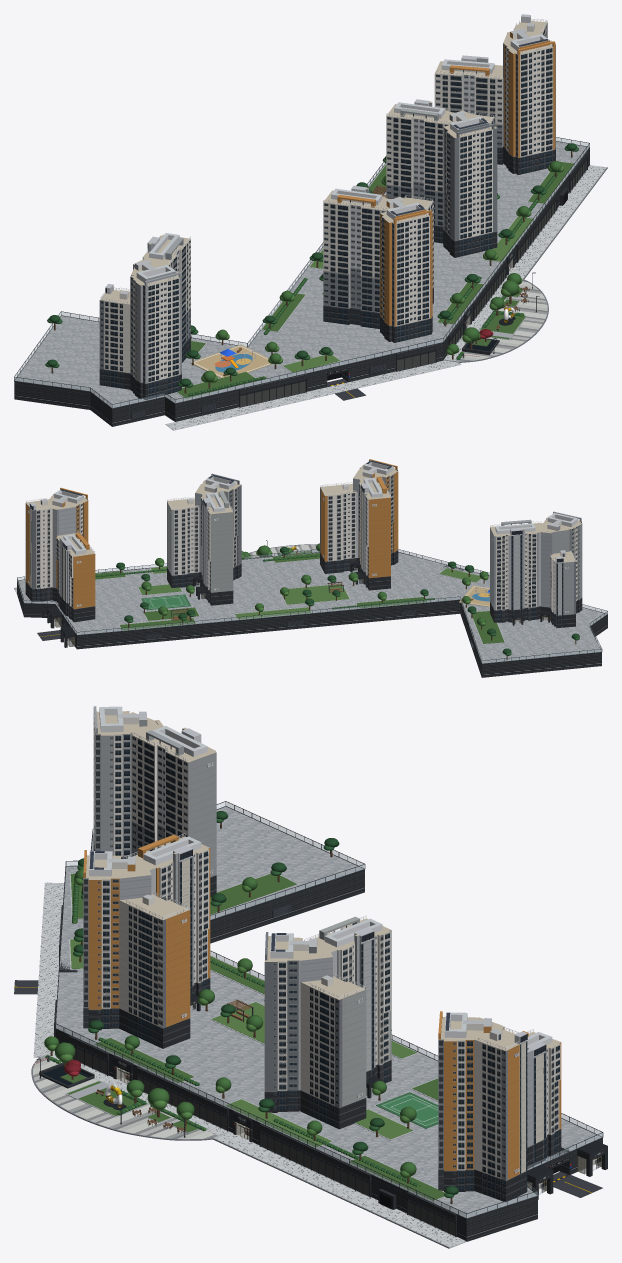
File: Community_south.glb
3 views of the same model, one above another, from view 1: azimuth 30°, elevation 25°; view 2: azimuth 150°, elevation 25°; view 3: azimuth 270°, elevation 25° (orthographic). The views are drawn at different scales.
Parts seen in each view (by area): view 1: KumhoParkHills_Unified_Community_With_FrontPark, Rooftop_Park_Landscaping, WingA_NW_21F.001, WingC_South_21F.001, WingC_South_21F.002, WingC_South_21F, WingC_South_20F, WingA_NW_21F, Community_Front_Curved_Park, WingA_NW_15F, WingB_NW_15F_118sqm, WingA_NE_20F; view 2: KumhoParkHills_Unified_Community_With_FrontPark, Rooftop_Park_Landscaping, WingA_NE_20F, WingA_NW_21F, WingA_NW_21F.001, WingB_NE_18F_164sqm, WingA_NW_15F, WingB_NE_18F_151sqm, WingB_NE_21F, WingB_NW_15F_118sqm, KumhoParkHills_102_UpperOnly, WingC_South_21F.001 (+7 smaller); view 3: KumhoParkHills_Unified_Community_With_FrontPark, Rooftop_Park_Landscaping, WingB_NE_18F_164sqm, WingA_NE_20F, WingB_NE_18F_151sqm, WingB_NE_21F, Community_Front_Curved_Park, WingC_South_21F, WingA_NW_21F, WingC_South_21F.001, WingC_South_21F.002, WingA_NW_21F.001 (+4 smaller).
Part boxes in pixels (bbox=[...]): KumhoParkHills_Unified_Community_With_FrontPark: bbox=[14, 137, 607, 430]; Rooftop_Park_Landscaping: bbox=[45, 143, 578, 399]; WingA_NW_21F.001: bbox=[323, 185, 392, 328]; WingC_South_21F.001: bbox=[443, 111, 497, 257]; WingC_South_21F.002: bbox=[380, 197, 432, 342]; WingC_South_21F: bbox=[504, 28, 555, 174]; WingC_South_20F: bbox=[130, 260, 181, 399]; WingA_NW_21F: bbox=[386, 99, 454, 243]; Community_Front_Curved_Park: bbox=[443, 272, 548, 362]; WingA_NW_15F: bbox=[434, 55, 503, 164]; WingB_NW_15F_118sqm: bbox=[99, 284, 130, 389]; WingA_NE_20F: bbox=[142, 233, 190, 362]; KumhoParkHills_Unified_Community_With_FrontPark: bbox=[14, 549, 607, 677]; Rooftop_Park_Landscaping: bbox=[95, 543, 579, 659]; WingA_NE_20F: bbox=[490, 519, 544, 625]; WingA_NW_21F: bbox=[196, 489, 233, 605]; WingA_NW_21F.001: bbox=[354, 475, 390, 590]; WingB_NE_18F_164sqm: bbox=[320, 482, 357, 573]; WingA_NW_15F: bbox=[56, 531, 95, 622]; WingB_NE_18F_151sqm: bbox=[167, 496, 199, 587]; WingB_NE_21F: bbox=[25, 498, 52, 601]; WingB_NW_15F_118sqm: bbox=[550, 550, 575, 628]; KumhoParkHills_102_UpperOnly: bbox=[540, 522, 569, 622]; WingC_South_21F.001: bbox=[201, 473, 241, 580]; KumhoParkHills_Unified_Community_With_FrontPark: bbox=[14, 801, 607, 1248]; Rooftop_Park_Landscaping: bbox=[69, 811, 458, 1204]; WingB_NE_18F_164sqm: bbox=[119, 891, 190, 1048]; WingA_NE_20F: bbox=[131, 725, 216, 896]; WingB_NE_18F_151sqm: bbox=[300, 973, 366, 1129]; WingB_NE_21F: bbox=[470, 1027, 527, 1202]; Community_Front_Curved_Park: bbox=[31, 1036, 229, 1140]; WingC_South_21F: bbox=[438, 1011, 491, 1191]; WingA_NW_21F: bbox=[304, 915, 391, 1098]; WingC_South_21F.001: bbox=[264, 932, 317, 1112]; WingC_South_21F.002: bbox=[83, 850, 135, 1030]; WingA_NW_21F.001: bbox=[123, 833, 210, 1011].
Size of the model in its own units: 331 by 66.94 by 198.
787 materials, 393 textured.
